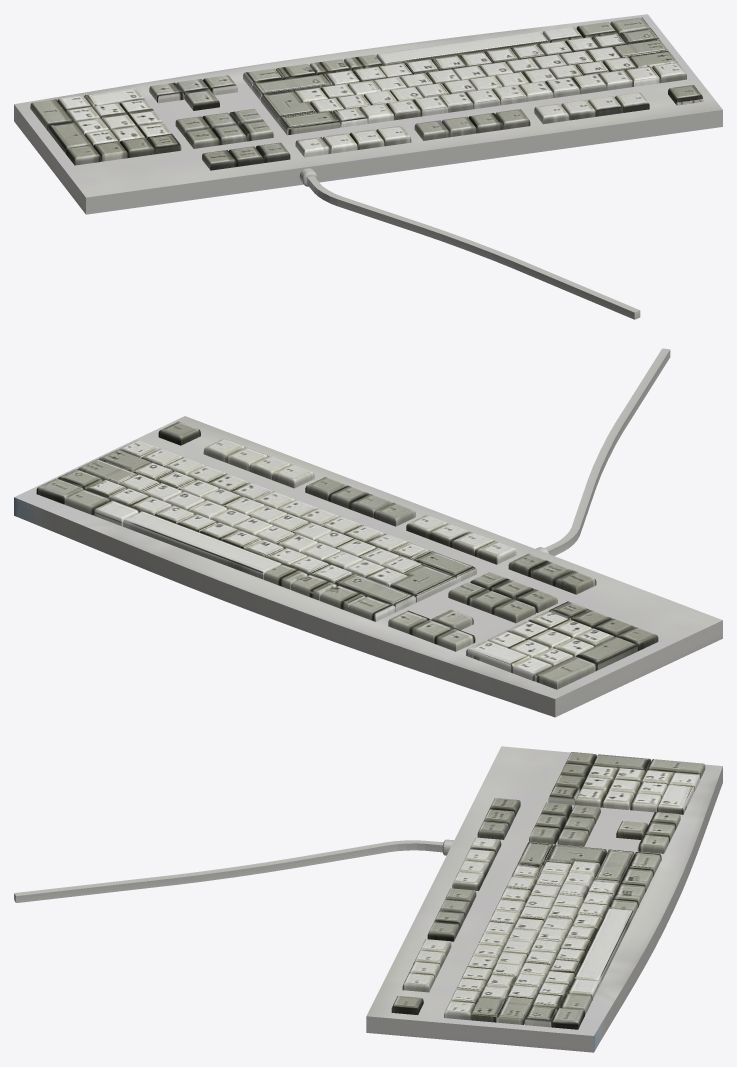
Rendered from keyboard.fbx.
3 views of the same model, one above another, from view 1: azimuth 30°, elevation 25°; view 2: azimuth 150°, elevation 25°; view 3: azimuth 270°, elevation 25° (orthographic). The views are drawn at different scales.
Parts seen in each view (by area): view 1: Keyboard; view 2: Keyboard; view 3: Keyboard.
Part boxes in pixels (bbox=[...]): Keyboard: bbox=[14, 14, 722, 319]; Keyboard: bbox=[14, 348, 722, 717]; Keyboard: bbox=[14, 746, 722, 1052].
Size of the model in its own units: 150 by 5.68 by 155.
